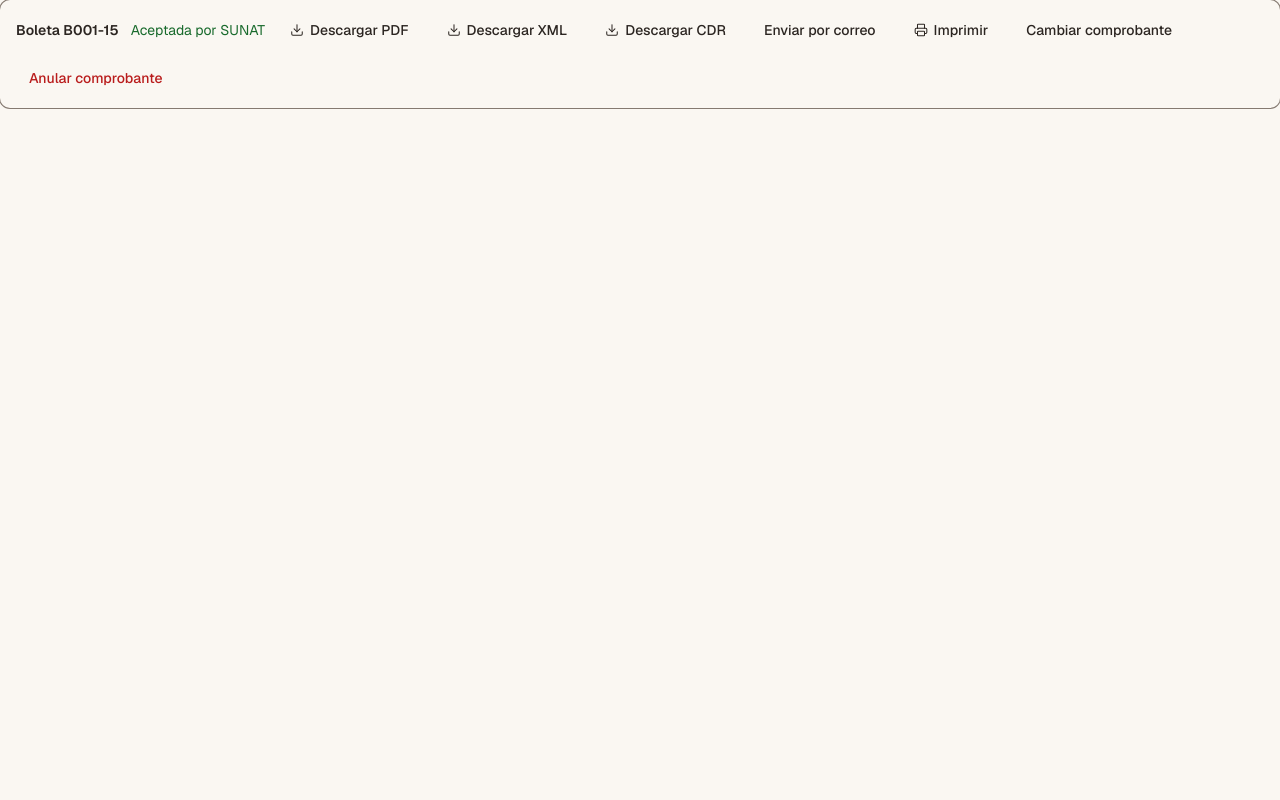
Test: IssuedInvoice: enviar por correo › envía el comprobante al correo escrito y avisa con el destino enmascarado
Click the button "Enviar por correo": (820, 30) [751,12,888,48]
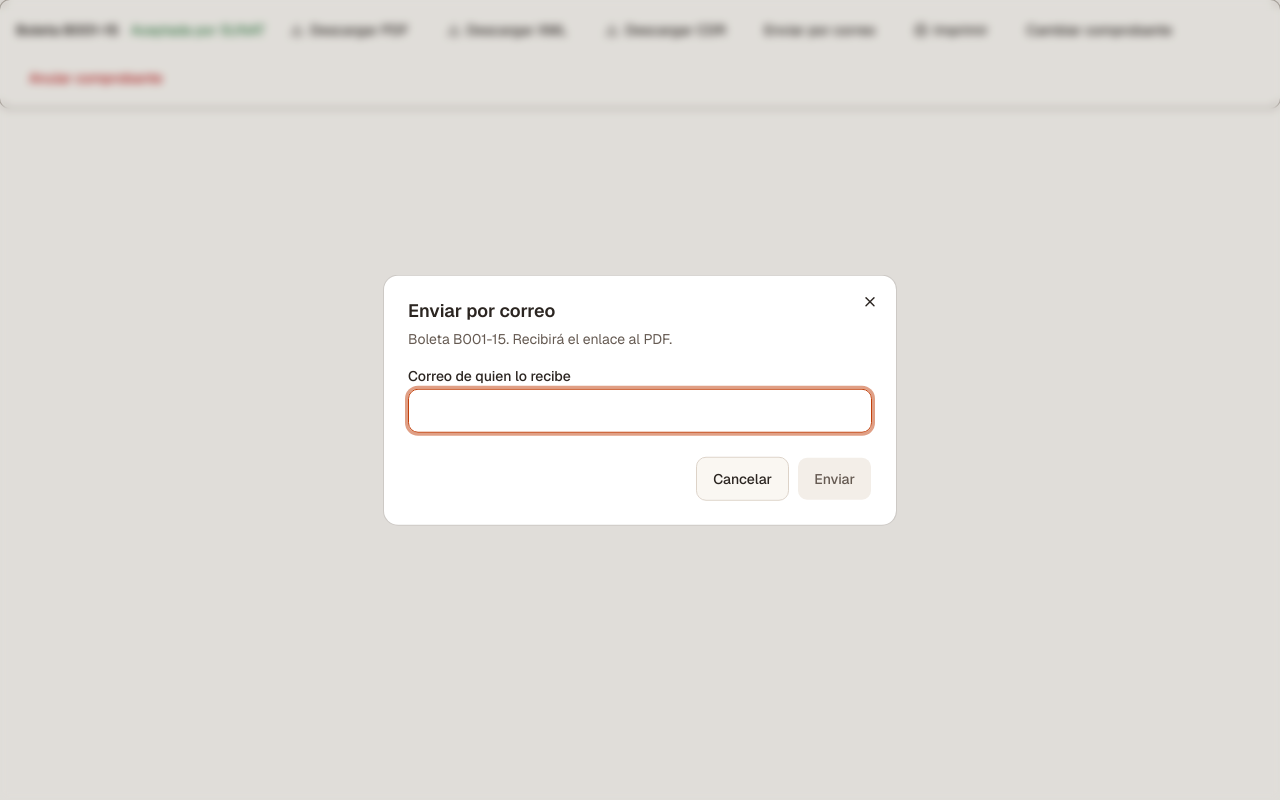
Expected: the button "Enviar" is disabled, [797,456,872,500]
In the field labelled "Correo de quien lo recibe": (640, 410) [408,388,872,432], type "rosa@correo.pe"
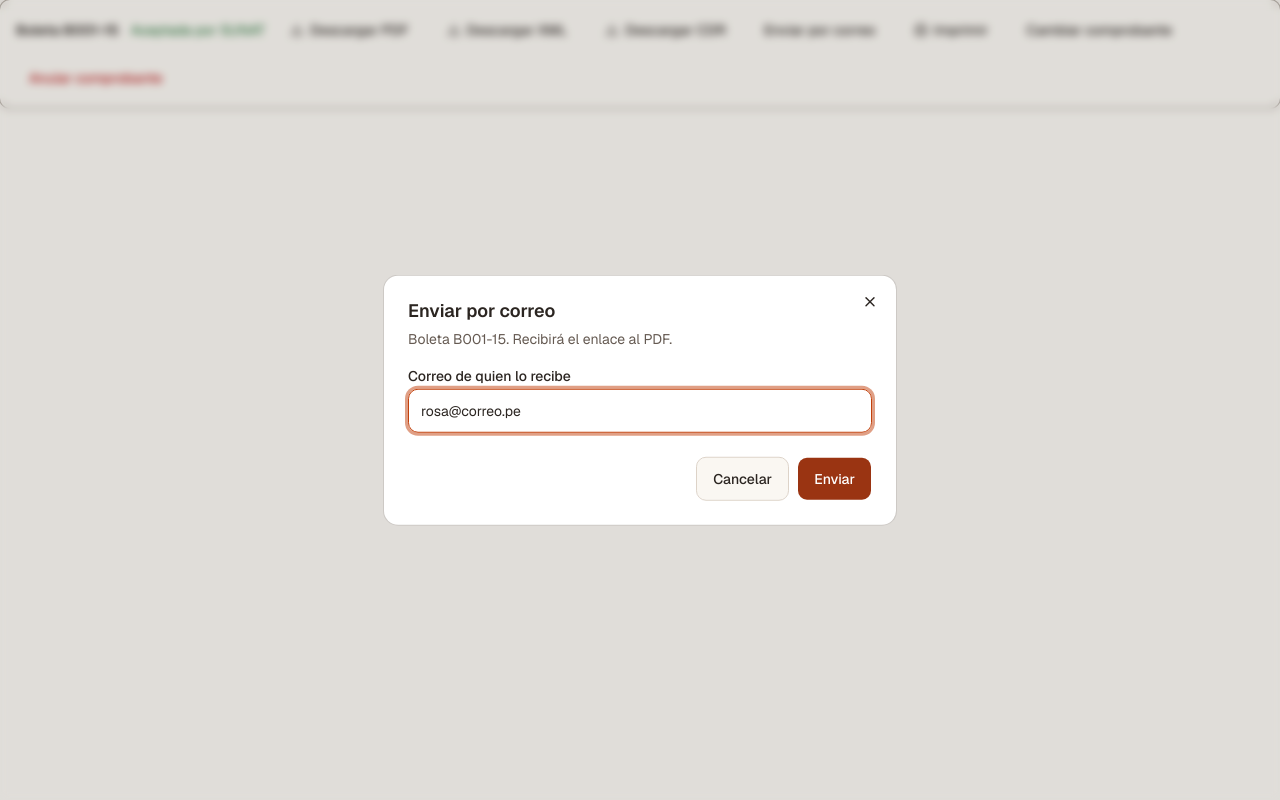
Click the button "Enviar": (835, 478) [797,456,872,500]
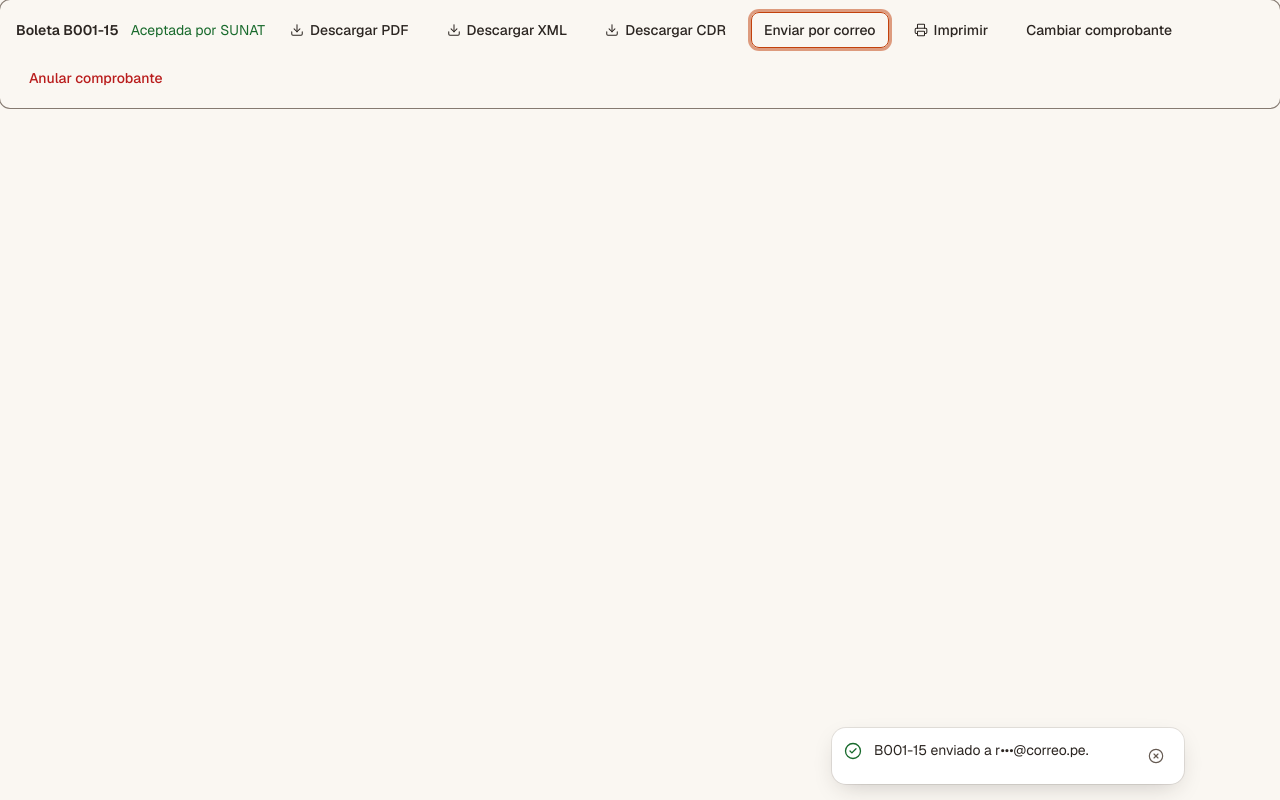
Expected: the text "B001-15 enviado a r•••@correo.pe." is shown, [874,741,1088,759]
